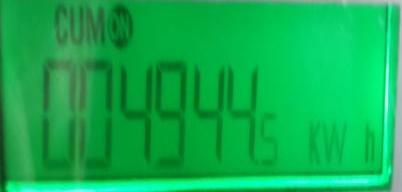.: (305, 117, 382, 167)
0: (252, 160, 260, 167)
1: (75, 60, 115, 167), (40, 59, 77, 170)
5: (223, 60, 262, 163), (120, 62, 157, 163), (194, 61, 225, 160)
6: (259, 111, 283, 168)
:: (152, 59, 189, 167)
